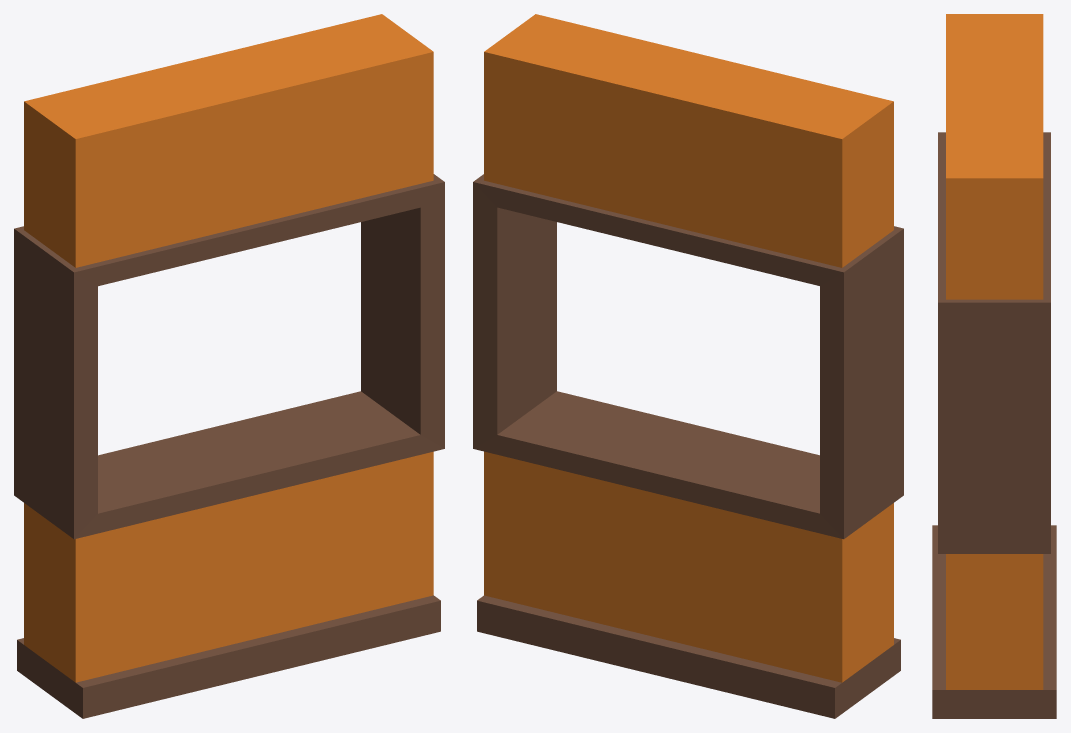
File: mesh_windowhole.fbx
3 renders of one model, left to right at view 1: azimuth 30°, elevation 25°; view 2: azimuth 150°, elevation 25°; view 3: azimuth 270°, elevation 25°, orthographic. The views are drawn at different scales.
Visible parts, largest first — view 1: pCube235; view 2: pCube235; view 3: pCube235.
Part boxes in pixels (bbox=[...]): pCube235: bbox=[14, 14, 444, 718]; pCube235: bbox=[473, 14, 903, 718]; pCube235: bbox=[932, 14, 1056, 718].
Size of the model in its own units: 50 by 74.01 by 15.4.
